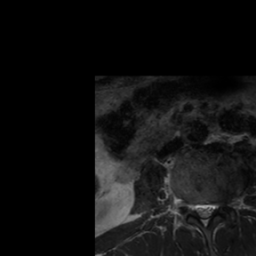CCS_normal: (200, 195, 207, 232)
LFS_stenosis: (216, 194, 226, 218)
LLS_stenosis: (207, 195, 216, 220)
RFS_normal: (185, 194, 193, 218)
RLS_normal: (192, 195, 200, 221)
